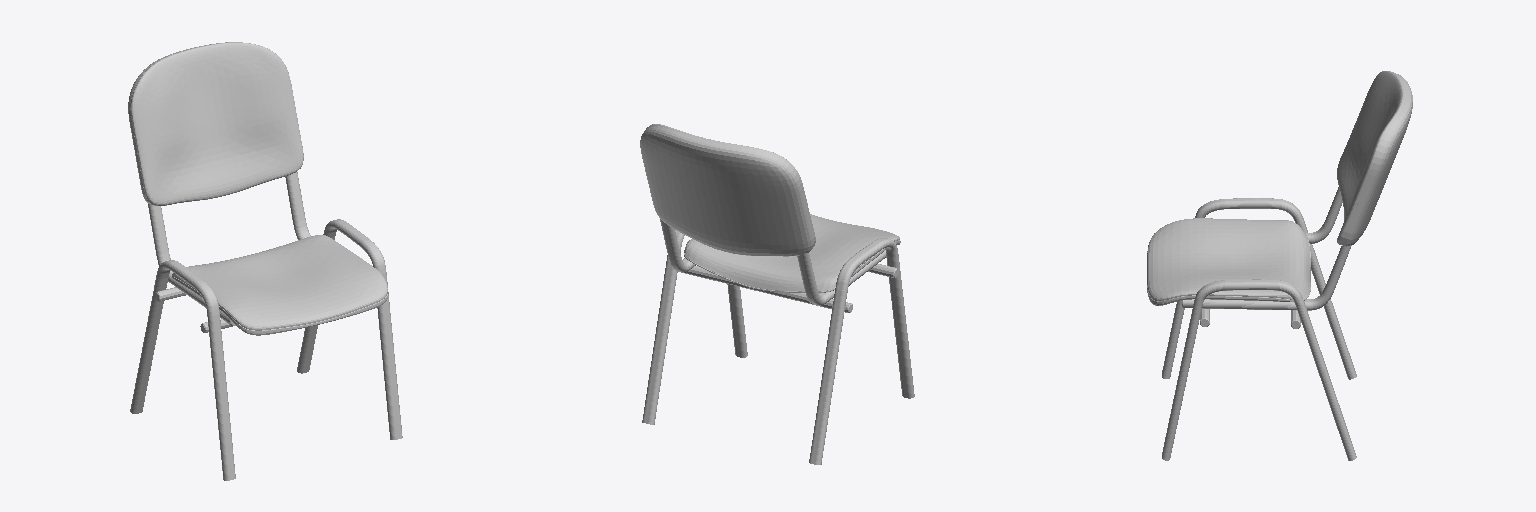
The model's file is dchair.obj.
3 views of the same model, side by side, from view 1: azimuth 30°, elevation 25°; view 2: azimuth 150°, elevation 25°; view 3: azimuth 270°, elevation 25° (orthographic).
Parts seen in each view (by area): view 1: Chair BackCushion Mesh, Chair SeatCushion Mesh, Chair RightLeg Mesh, Chair LeftLeg Mesh, Chair Right Mesh, Chair Left Mesh, Chair SeatPlastic Mesh; view 2: Chair BackPlastic Mesh, Chair SeatCushion Mesh, Chair RightLeg Mesh, Chair LeftLeg Mesh, Chair Right Mesh, Chair Back Mesh, Chair Left Mesh; view 3: Chair SeatCushion Mesh, Chair BackCushion Mesh, Chair LeftLeg Mesh, Chair RightLeg Mesh, Chair BackPlastic Mesh, Chair Left Mesh, Chair Right Mesh, Chair SeatPlastic Mesh.
Part boxes in pixels (x1,y1,x2,y2): Chair BackCushion Mesh: (131, 42, 303, 205); Chair SeatCushion Mesh: (172, 235, 387, 330); Chair RightLeg Mesh: (130, 260, 235, 480); Chair LeftLeg Mesh: (297, 219, 402, 439); Chair Right Mesh: (148, 204, 235, 325); Chair Left Mesh: (285, 172, 310, 239); Chair SeatPlastic Mesh: (172, 276, 388, 335); Chair BackPlastic Mesh: (640, 126, 814, 256); Chair SeatCushion Mesh: (684, 214, 899, 291); Chair RightLeg Mesh: (809, 238, 914, 464); Chair LeftLeg Mesh: (642, 230, 747, 424); Chair Right Mesh: (797, 250, 885, 305); Chair Back Mesh: (678, 266, 852, 312); Chair Left Mesh: (660, 219, 695, 271); Chair SeatCushion Mesh: (1147, 218, 1310, 300); Chair BackCushion Mesh: (1337, 71, 1405, 244); Chair LeftLeg Mesh: (1162, 279, 1356, 460); Chair RightLeg Mesh: (1162, 198, 1356, 379); Chair BackPlastic Mesh: (1341, 72, 1412, 246); Chair Left Mesh: (1182, 245, 1351, 310); Chair Right Mesh: (1306, 187, 1342, 243); Chair SeatPlastic Mesh: (1147, 239, 1310, 305).
Size of the model in its own units: 48 by 81.84 by 60.88.